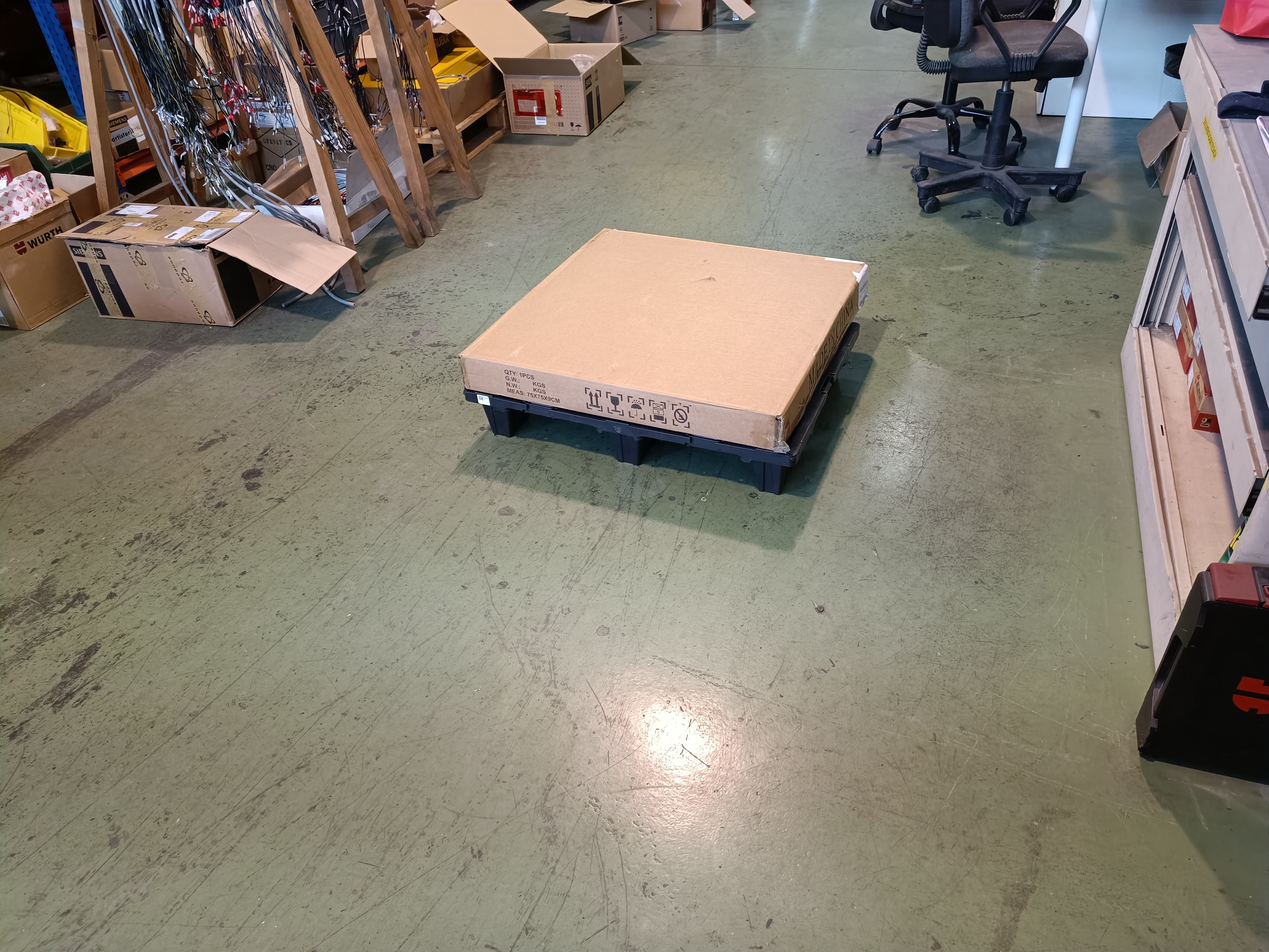block: (742, 440, 786, 491), (608, 424, 647, 464), (481, 407, 523, 439)
front: (468, 391, 796, 499)
hole pallet: (638, 436, 760, 485), (511, 412, 614, 462)
